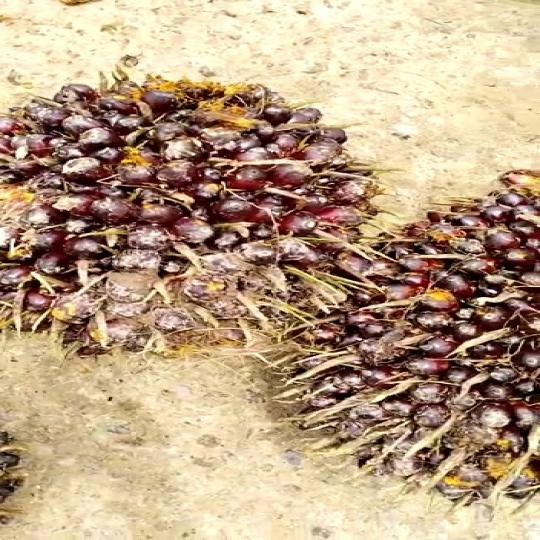kurang masak: (0, 81, 374, 350), (281, 179, 535, 510)
